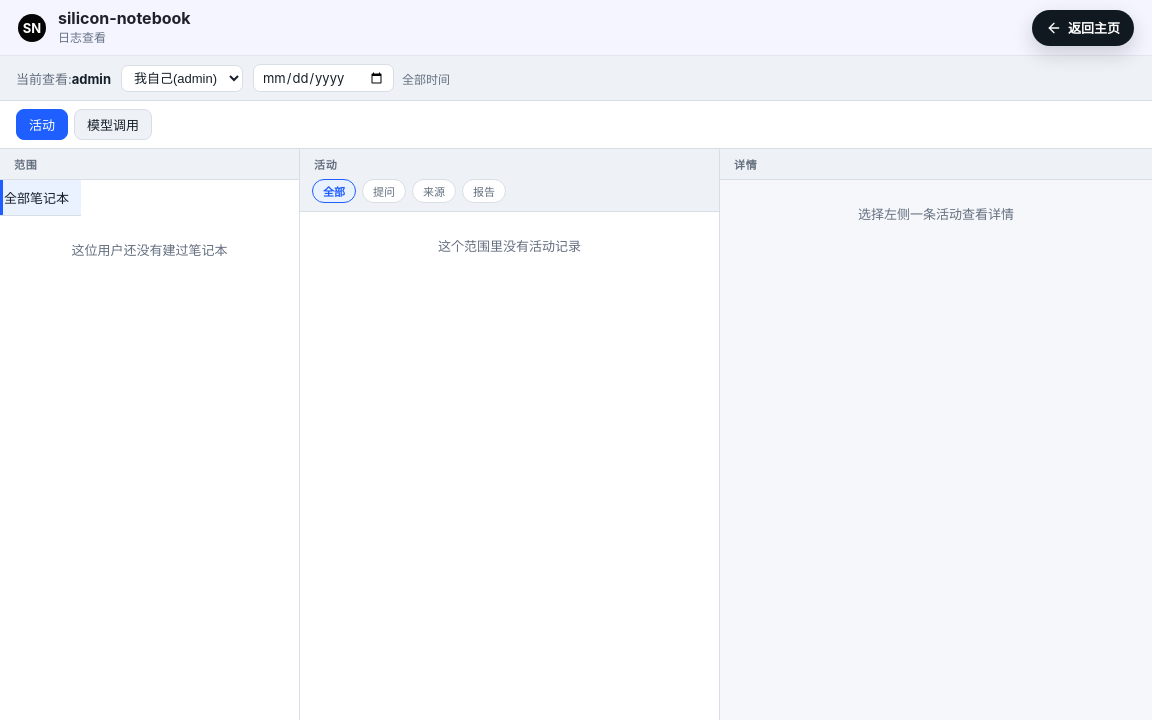
切换用户后忽略较晚返回的旧日志详情
The image size is (1152, 720).
Click the button "模型调用".
click(113, 124)  # box [74,109,152,140]
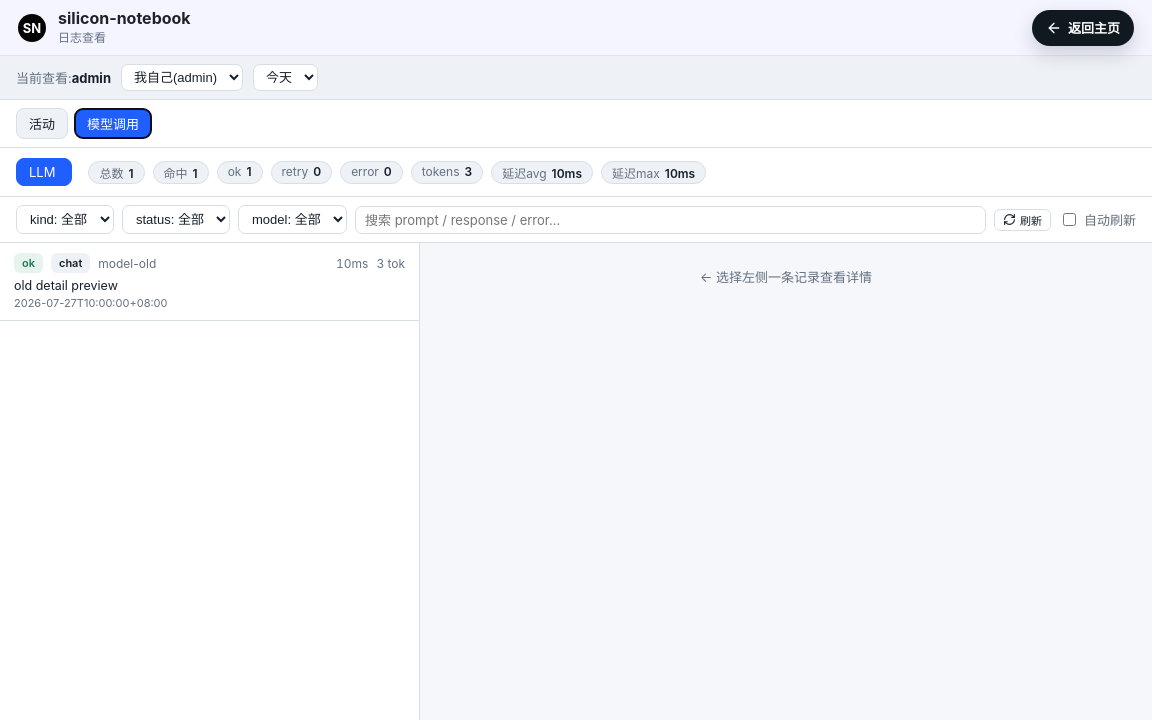
Click the button "old detail preview".
click(71, 263)  # box [0,243,419,321]
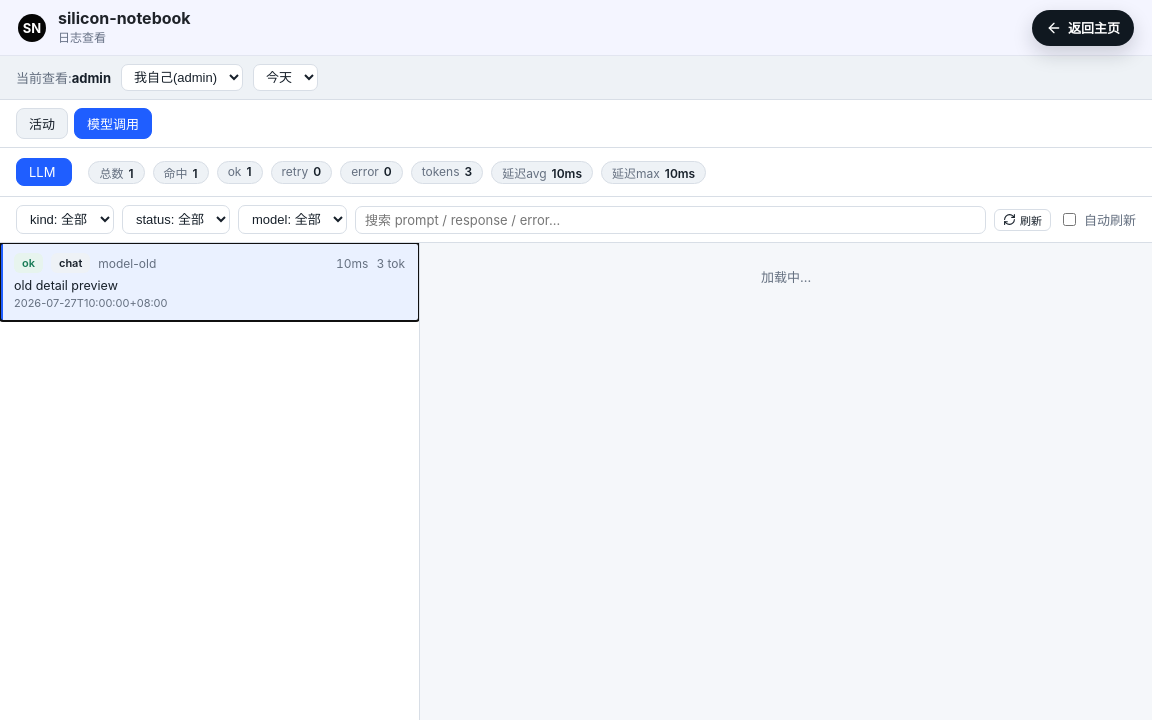
Select "a00123456" in the dropdown with class "logview-owner-select" at (182, 78), box [121,64,243,91]
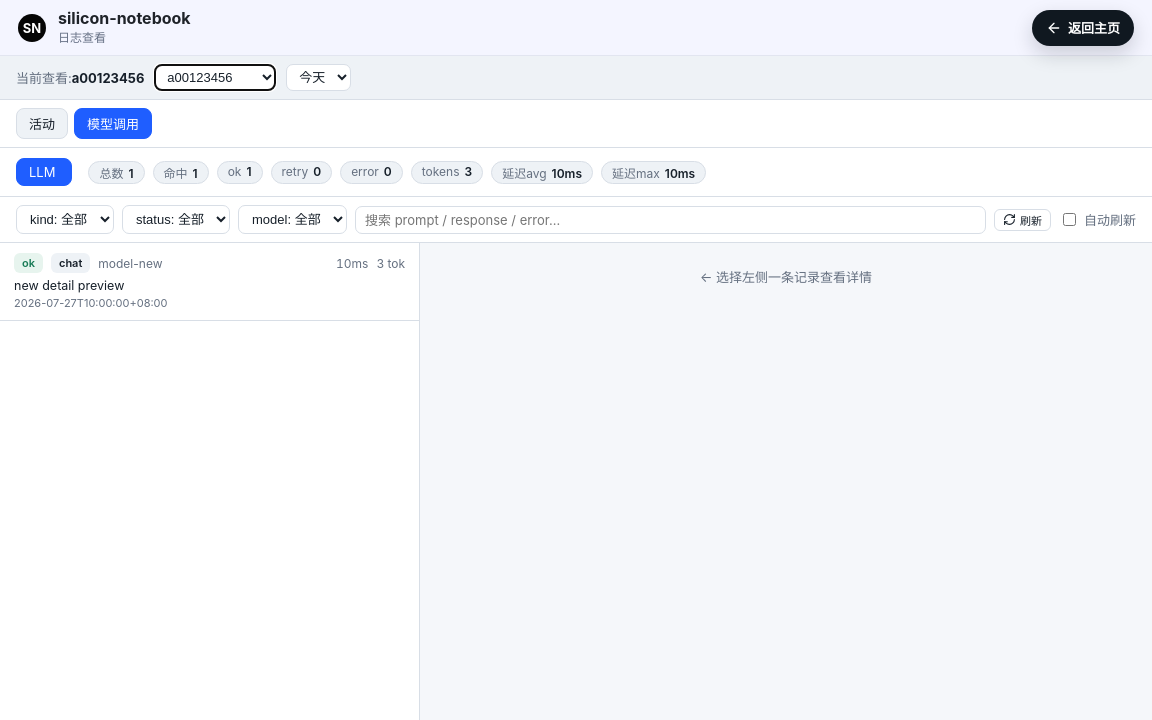
Click the button "new detail preview".
click(71, 263)  # box [0,243,419,321]
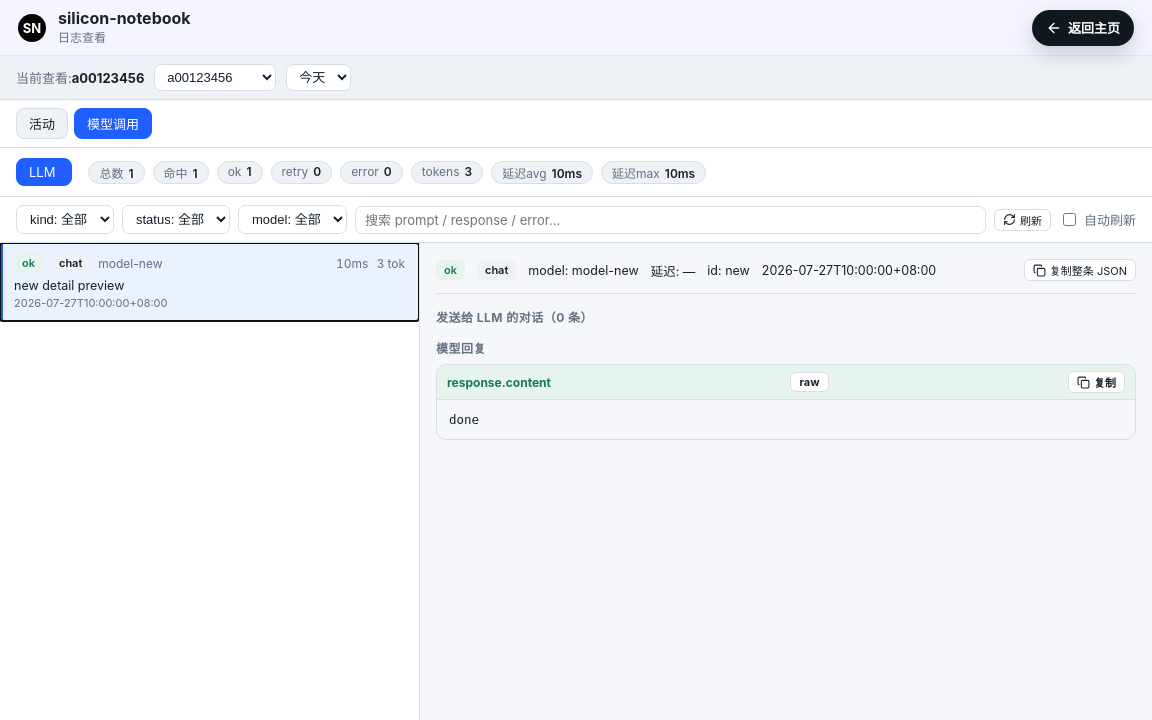
Check: the text "model: model-new" is shown, box [528,262,639,278]
